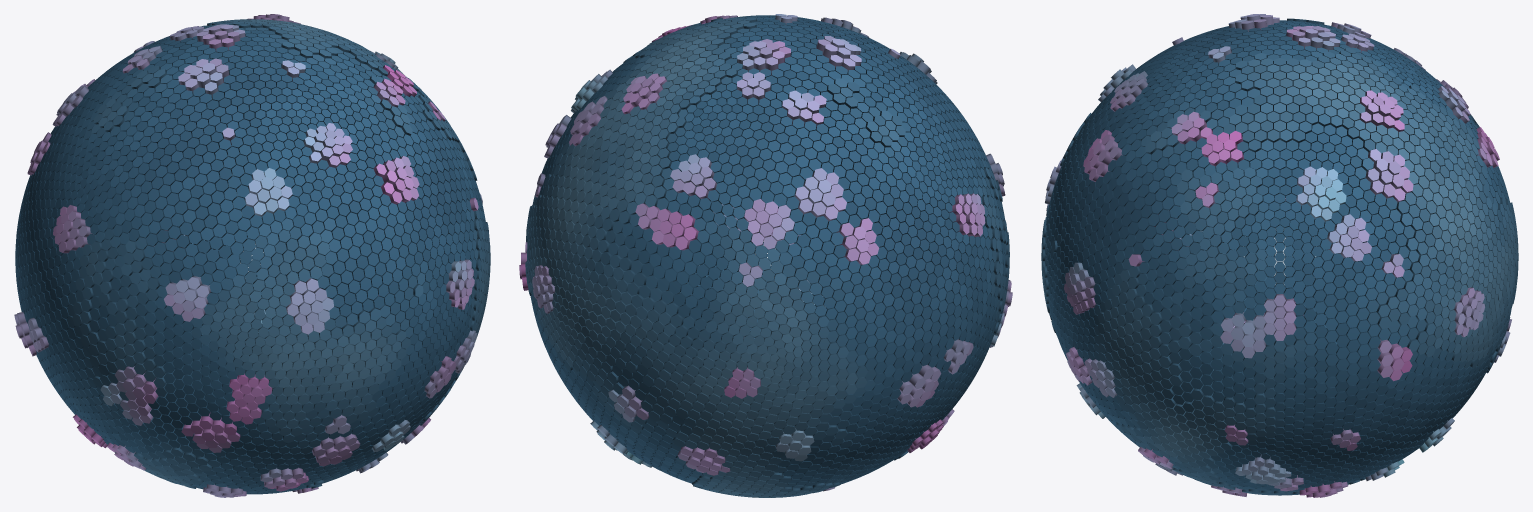
The model's file is crystal_0.glb.
3 views of the same model, side by side, from view 1: azimuth 30°, elevation 25°; view 2: azimuth 150°, elevation 25°; view 3: azimuth 270°, elevation 25° (orthographic).
Parts seen in each view (by area): view 1: crystal_0; view 2: crystal_0; view 3: crystal_0.
Boxes of the visible parts, x1=… form: crystal_0: x1=14, y1=14, x2=490, y2=497; crystal_0: x1=519, y1=14, x2=1012, y2=497; crystal_0: x1=1041, y1=14, x2=1518, y2=497.
Size of the model in its own units: 2.06 by 2.08 by 2.04.
